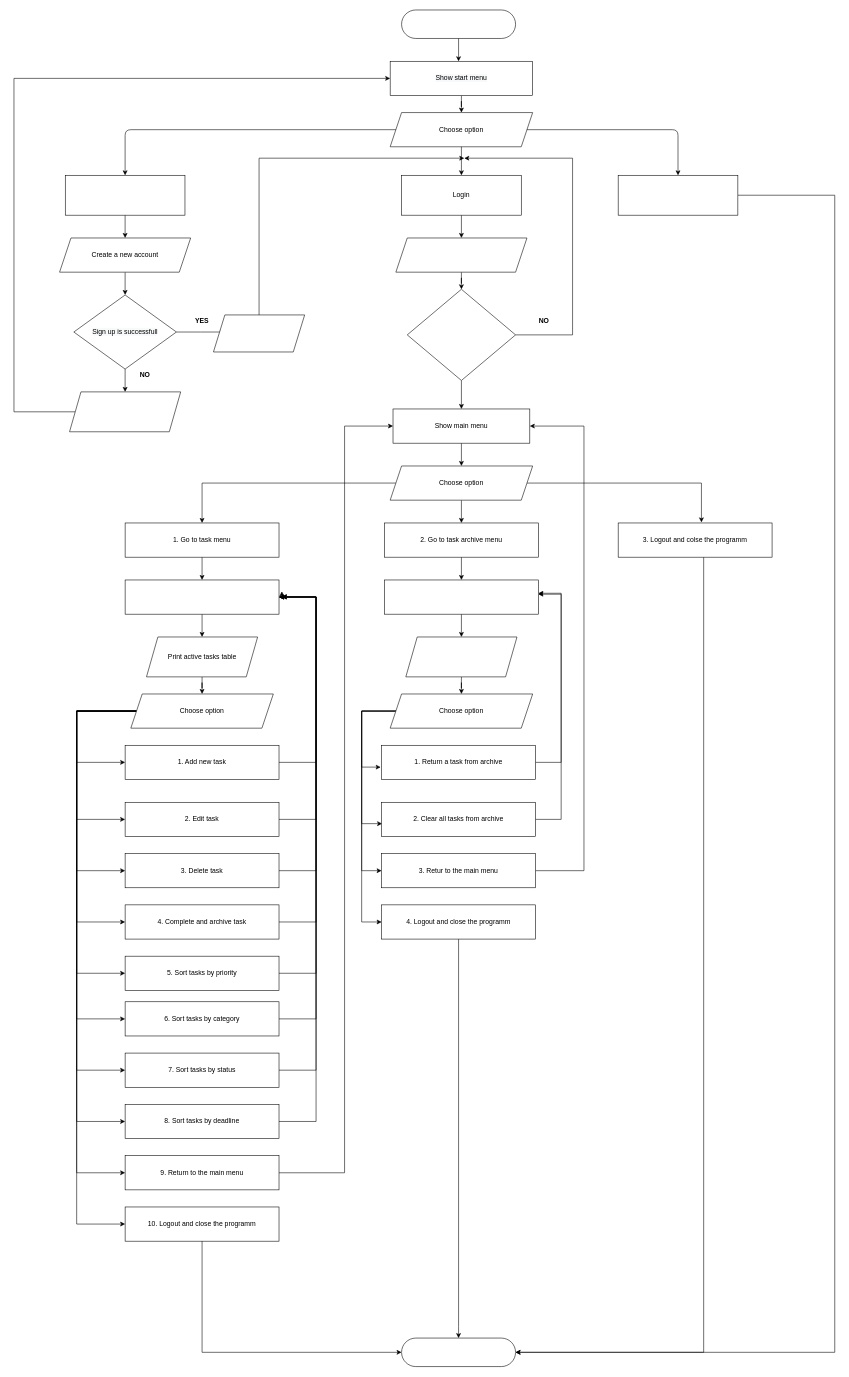
Image size: 849x1377. Some labels were removed from this diagram. Here are the shapes that lost their labels. From the top down, the centre of each, then its label:
(x=458, y=23): SART
(x=125, y=195): Sign up
(x=678, y=195): Close a programm
(x=461, y=254): Enter username and password
(x=259, y=333): Account created
(x=461, y=334): Login successfull
(x=125, y=411): Print "Unable to sign up ..."
(x=202, y=596): Show task menu
(x=461, y=596): Show archive menu
(x=461, y=656): Print task archive table
(x=458, y=1352): ENT
